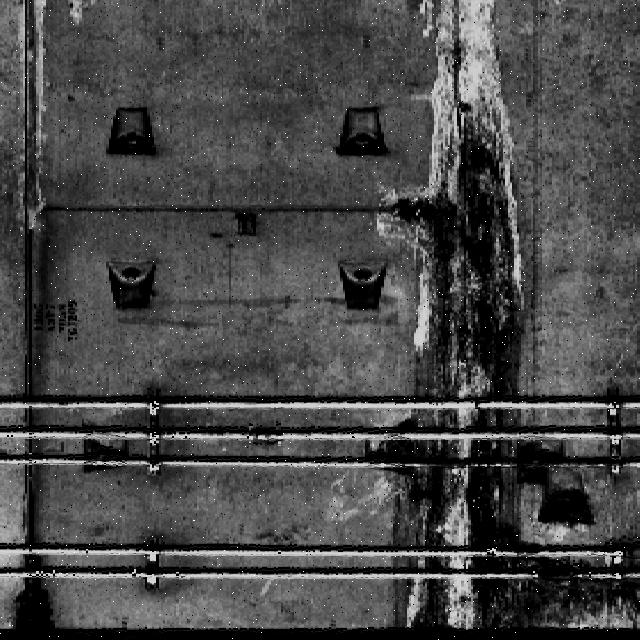leakage: (388, 1, 550, 639), (3, 521, 55, 631)
